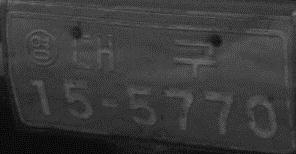-: (98, 90, 123, 116)
0: (244, 92, 279, 140)
1: (26, 76, 56, 117)
5: (62, 79, 95, 120), (126, 84, 158, 126)
7: (162, 85, 194, 131), (203, 89, 234, 136)
대구_D: (69, 31, 217, 75)
영: (22, 26, 60, 68)
